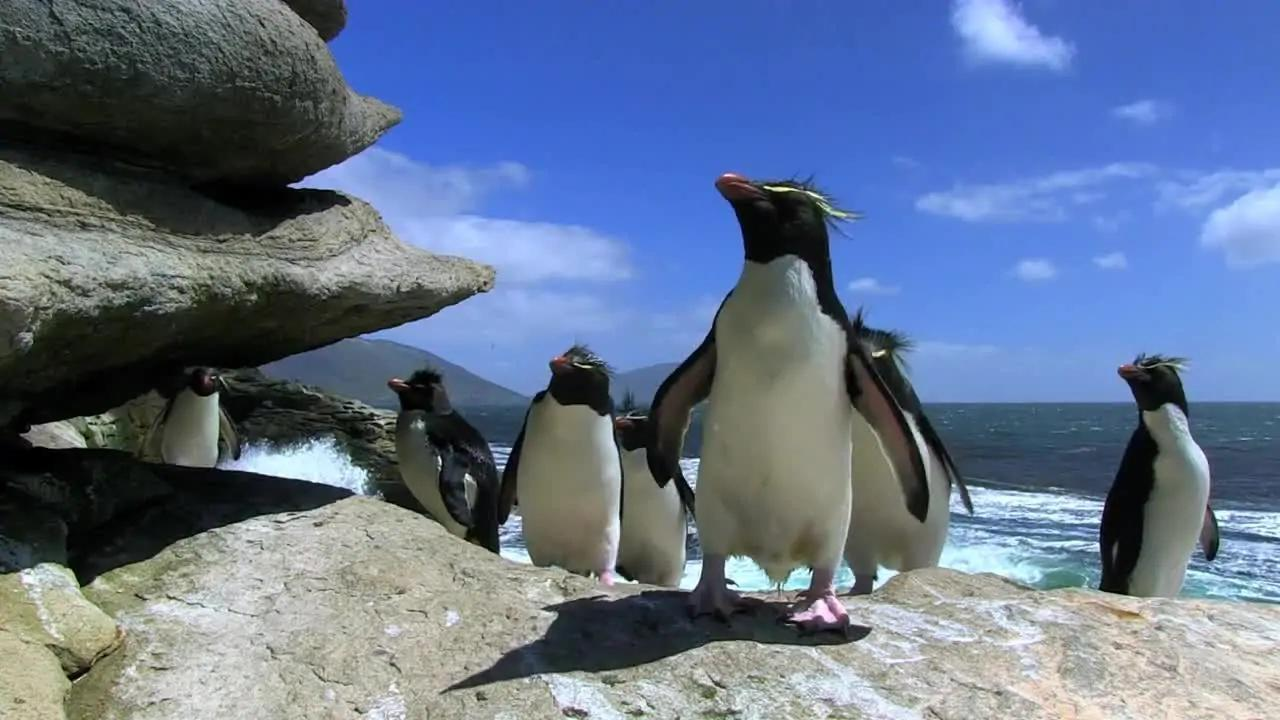Penguin: (648, 173, 928, 630), (845, 313, 972, 595), (498, 342, 622, 583), (1098, 352, 1218, 597), (388, 370, 498, 551), (613, 391, 695, 586), (140, 368, 240, 468)
